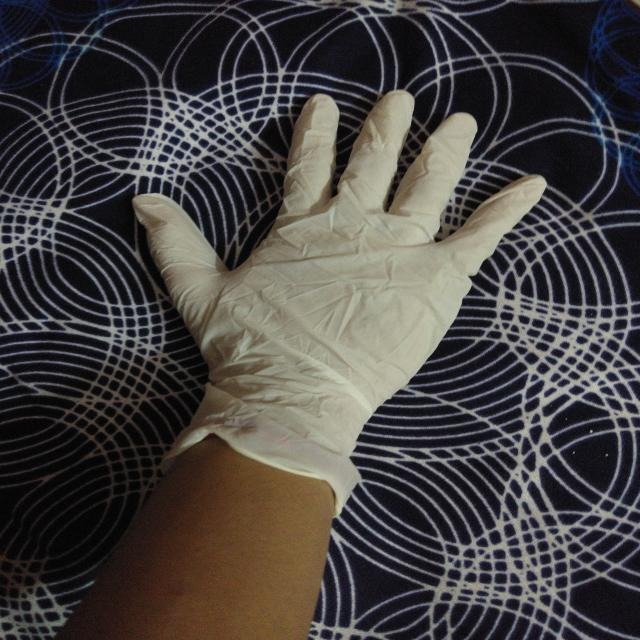glove_hand: (113, 78, 551, 519)
